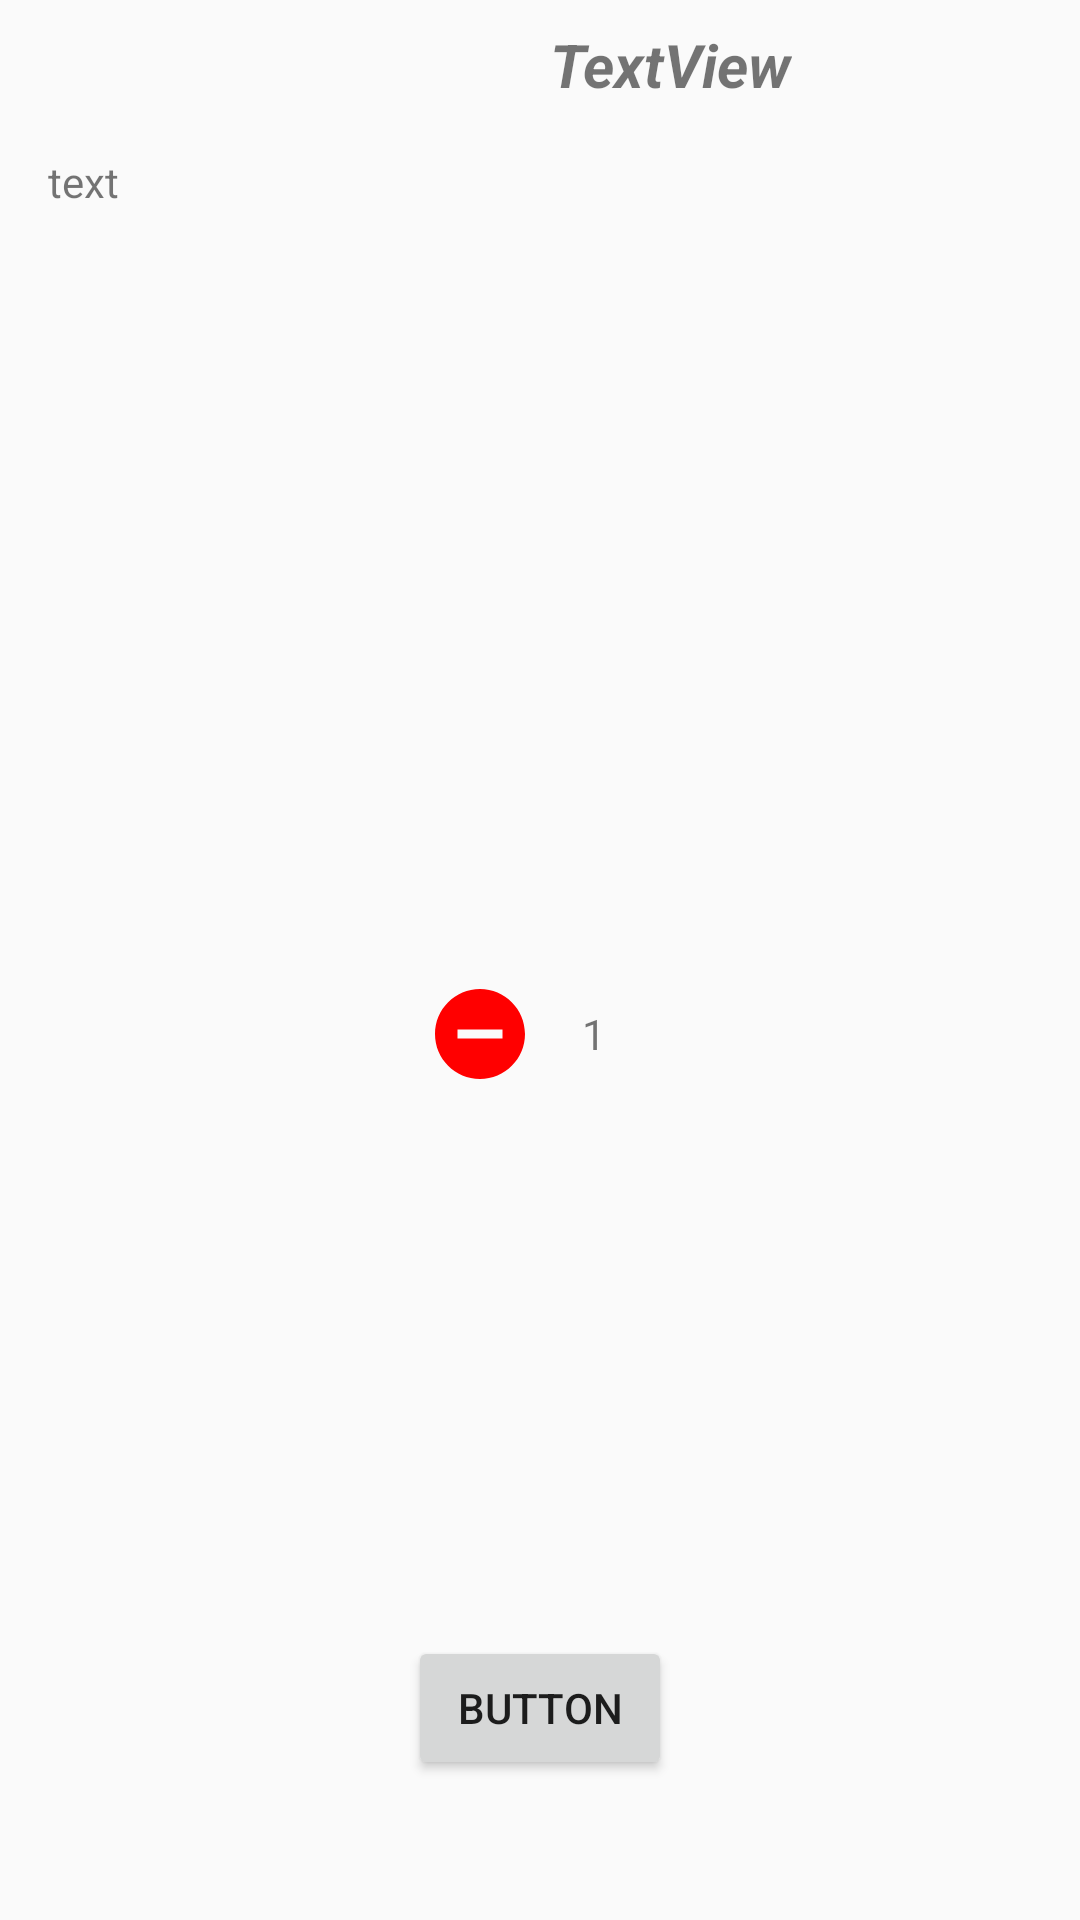

Where icons sit on this 1080 x 1920 app screen, as (x1, y1, x2, y2):
less: (435, 989, 525, 1079)
